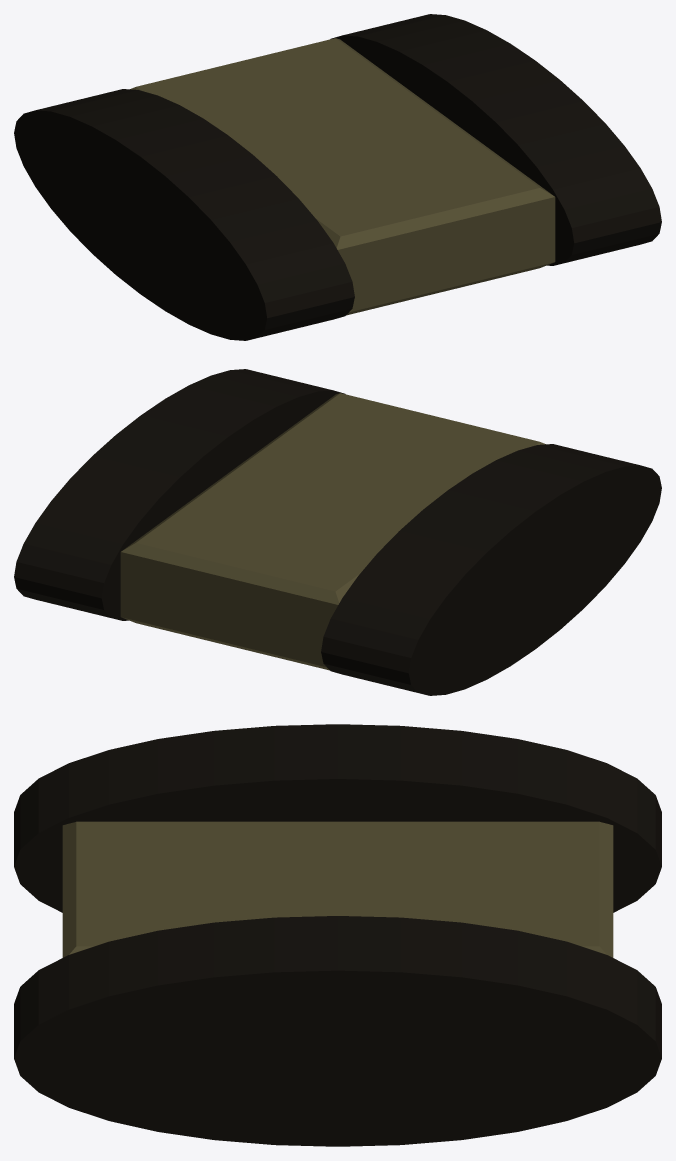
Rendered from test_enemy_hull.glb.
3 views of the same model, one above another, from view 1: azimuth 30°, elevation 25°; view 2: azimuth 150°, elevation 25°; view 3: azimuth 270°, elevation 25° (orthographic). The views are drawn at different scales.
Visible parts, largest first — view 1: Cube, Cylinder.001, Cylinder; view 2: Cube, Cylinder.001, Cylinder; view 3: Cylinder, Cube, Cylinder.001.
Boxes of the visible parts, x1=… form: Cube: x1=130, y1=38, x2=555, y2=315; Cylinder.001: x1=14, y1=89, x2=354, y2=340; Cylinder: x1=330, y1=14, x2=661, y2=265; Cube: x1=120, y1=393, x2=545, y2=670; Cylinder.001: x1=321, y1=444, x2=661, y2=695; Cylinder: x1=14, y1=369, x2=345, y2=620; Cylinder: x1=14, y1=916, x2=661, y2=1146; Cube: x1=62, y1=821, x2=613, y2=957; Cylinder.001: x1=14, y1=724, x2=661, y2=912.
Size of the model in its own units: 18 by 6 by 20.
